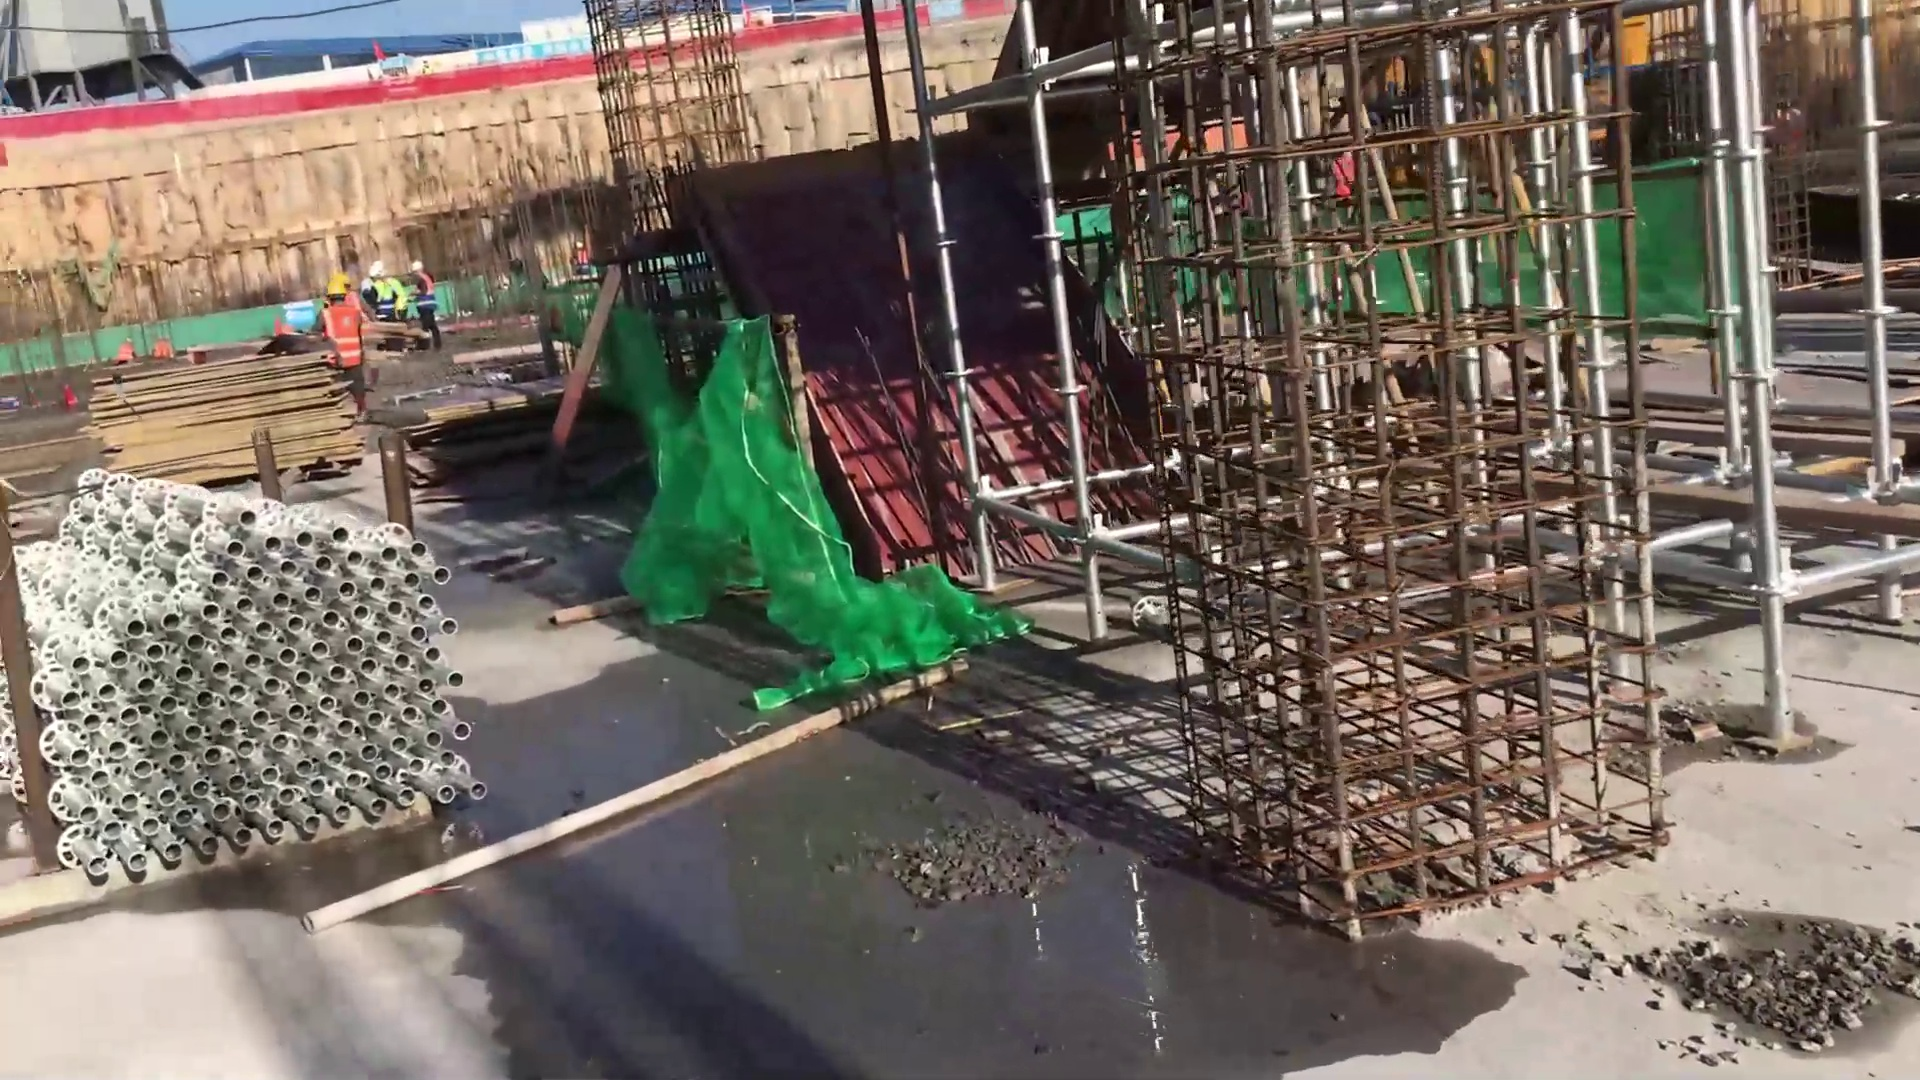board: (84, 342, 385, 503)
fence: (8, 58, 468, 135)
helmet: (328, 278, 344, 299), (408, 259, 427, 273)
person: (316, 277, 370, 412), (404, 257, 446, 346)
scaffold: (11, 472, 516, 917)
slogan: (464, 36, 595, 65)
vest: (316, 303, 371, 368)
